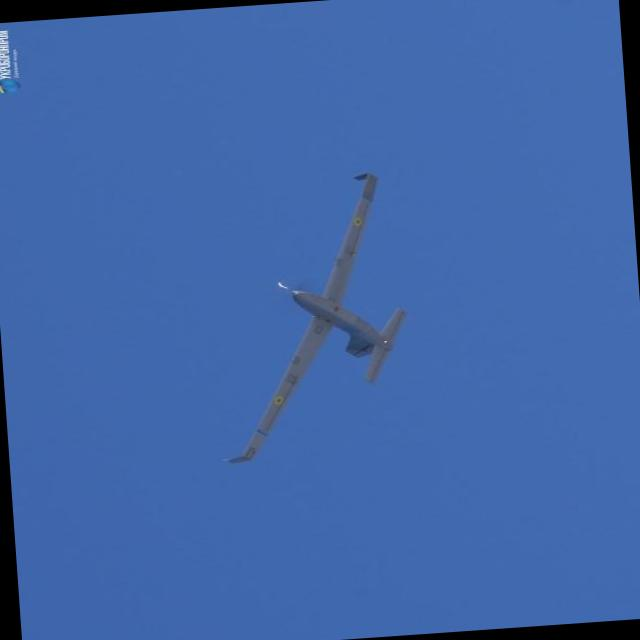UAV: (209, 174, 471, 480)
